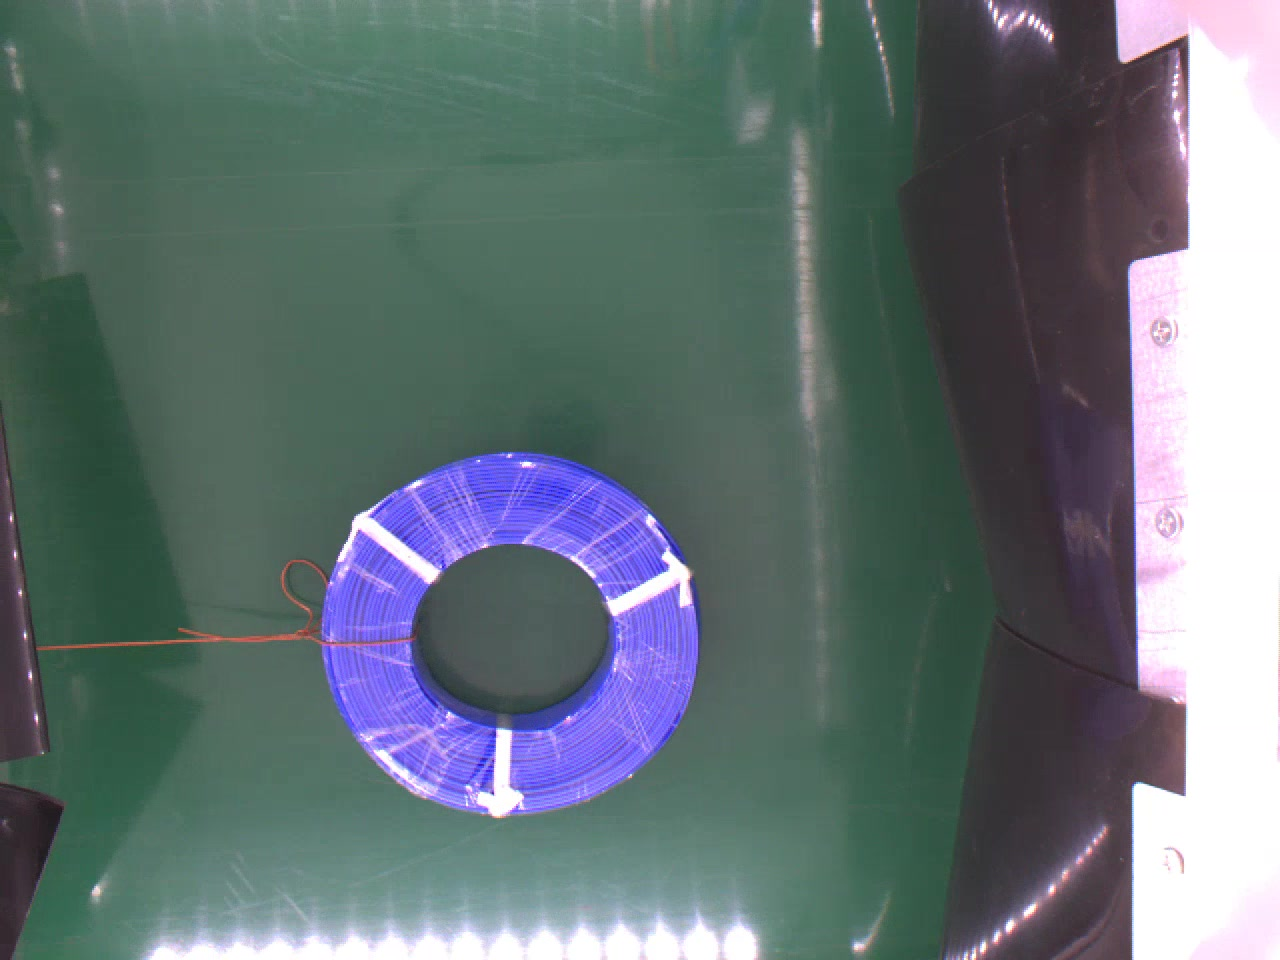blue: (316, 445, 709, 817)
